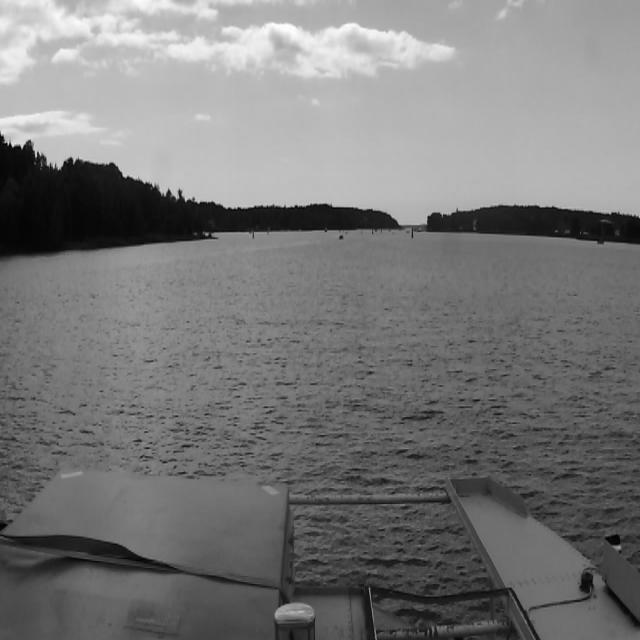buoy: (266, 224, 272, 236), (410, 224, 414, 241), (251, 228, 255, 238), (370, 225, 374, 235)
ship: (337, 231, 342, 241)
